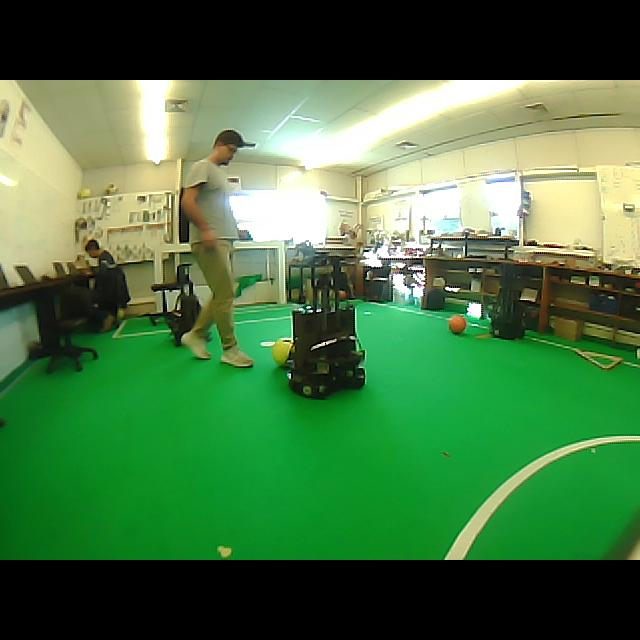ball: (272, 338, 292, 365), (448, 315, 466, 333), (78, 188, 92, 199), (105, 184, 119, 194), (339, 290, 348, 301), (116, 309, 125, 319)
goal: (278, 241, 286, 303)
robot: (289, 255, 365, 398), (166, 264, 201, 346), (491, 264, 525, 339)
